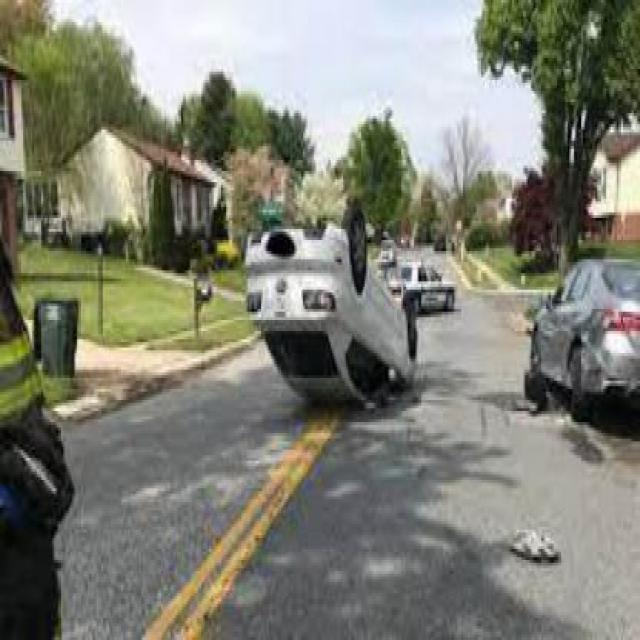accident: (233, 193, 422, 408)
